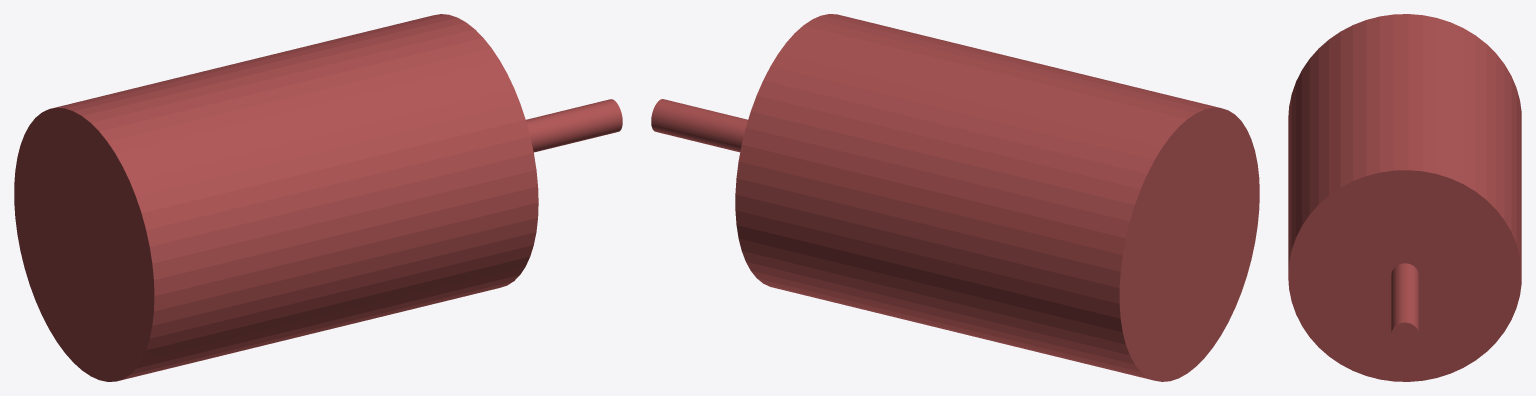
File: MOT-P.glb
3 views of the same model, side by side, from view 1: azimuth 30°, elevation 25°; view 2: azimuth 150°, elevation 25°; view 3: azimuth 270°, elevation 25° (orthographic). The views are drawn at different scales.
Parts seen in each view (by area): view 1: geometry_0; view 2: geometry_0; view 3: geometry_0.
Part boxes in pixels (left/top/right/bottom): geometry_0: left=14, top=14, right=622, bottom=381; geometry_0: left=651, top=14, right=1259, bottom=381; geometry_0: left=1288, top=14, right=1521, bottom=381.
Size of the model in its own units: 109 by 49.98 by 49.95.
